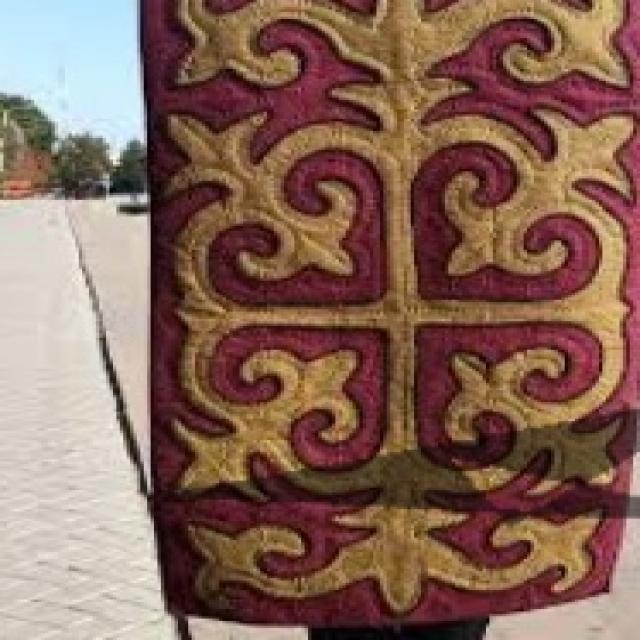Unity: (153, 108, 637, 513)
